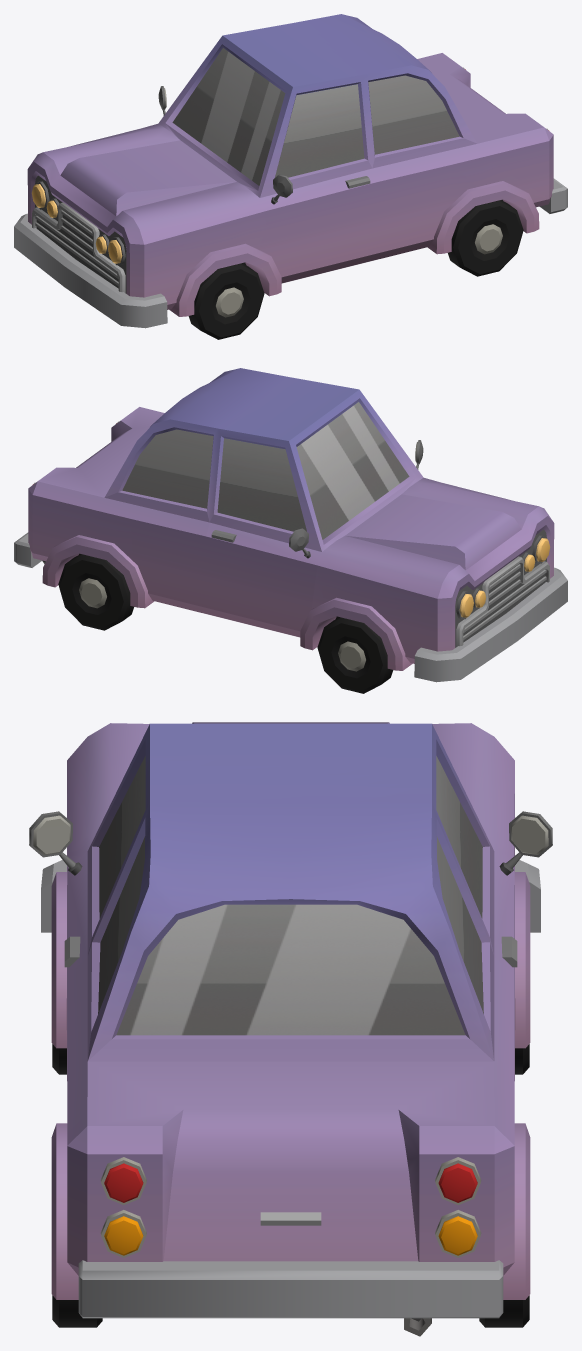
The model's file is Car_7_U.gltf.
3 views of the same model, one above another, from view 1: azimuth 30°, elevation 25°; view 2: azimuth 150°, elevation 25°; view 3: azimuth 270°, elevation 25° (orthographic). The views are drawn at different scales.
Visible parts, largest first — view 1: Car_7_U, RL, FL; view 2: Car_7_U, RR, FR; view 3: Car_7_U, RL, RR.
Boxes of the visible parts, box(x1,y1,x2,y2) form: Car_7_U: box(14, 14, 567, 328); RL: box(448, 200, 523, 276); FL: box(188, 263, 264, 339); Car_7_U: box(14, 368, 567, 682); RR: box(58, 554, 133, 630); FR: box(317, 617, 393, 693); Car_7_U: box(29, 722, 552, 1336); RL: box(52, 1295, 102, 1327); RR: box(479, 1295, 529, 1327).
Bounding box in the file's own units: 3.38 × 1.52 × 1.7.
3 materials, 3 textured.
